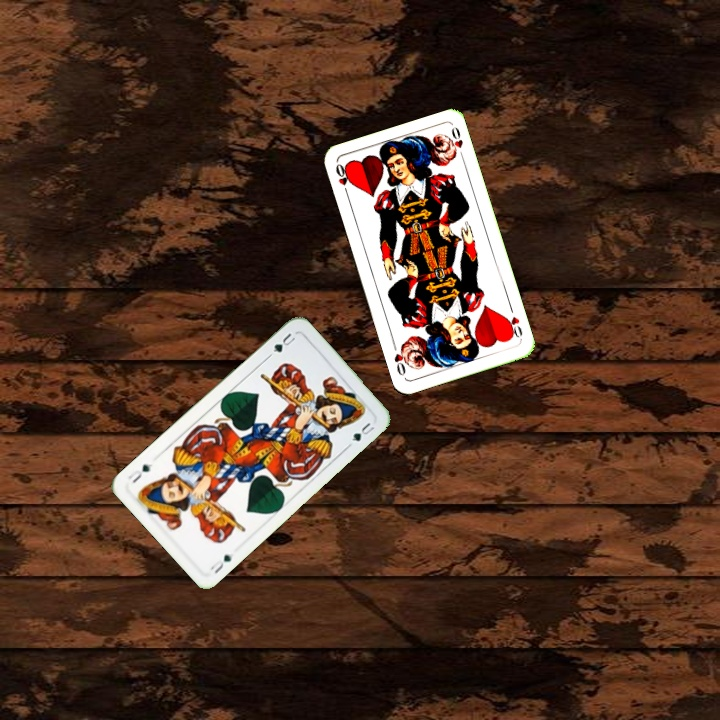GU: (264, 329, 298, 360), (206, 550, 234, 577)
HO: (502, 303, 525, 340), (332, 159, 353, 199)
